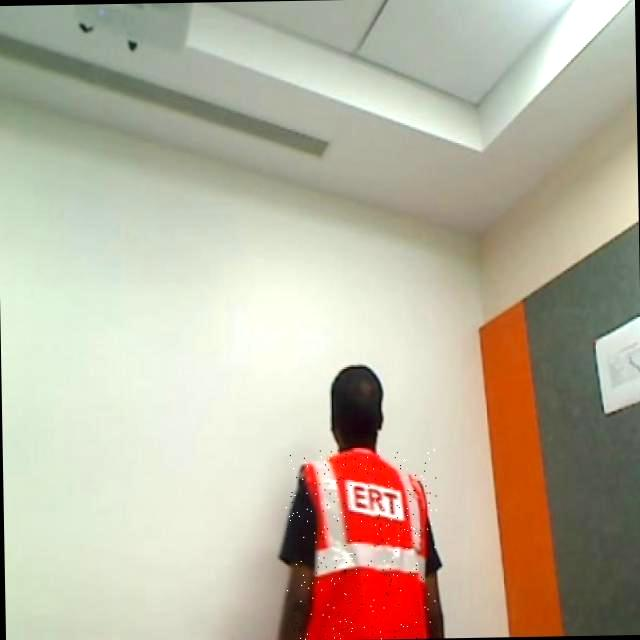no_head_wear: (331, 365, 383, 451)
person: (289, 366, 442, 639)
